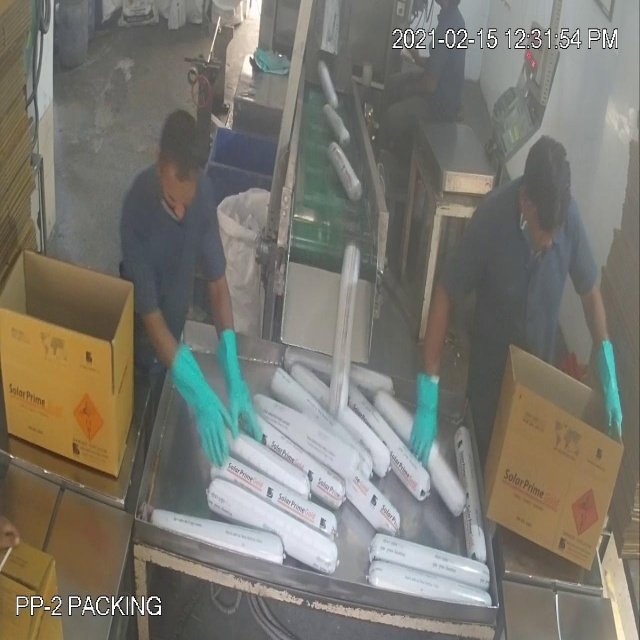Guantes: (157, 332, 234, 470), (211, 308, 270, 458), (404, 358, 447, 481), (590, 318, 627, 458)
